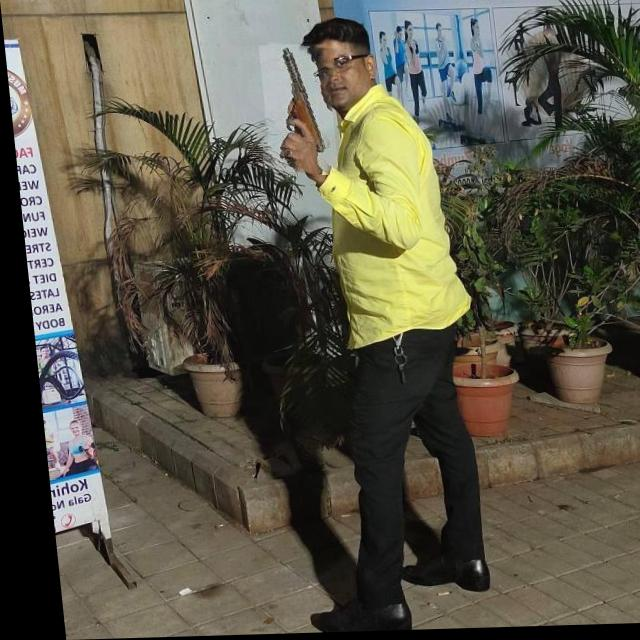handgun: (253, 43, 339, 176)
